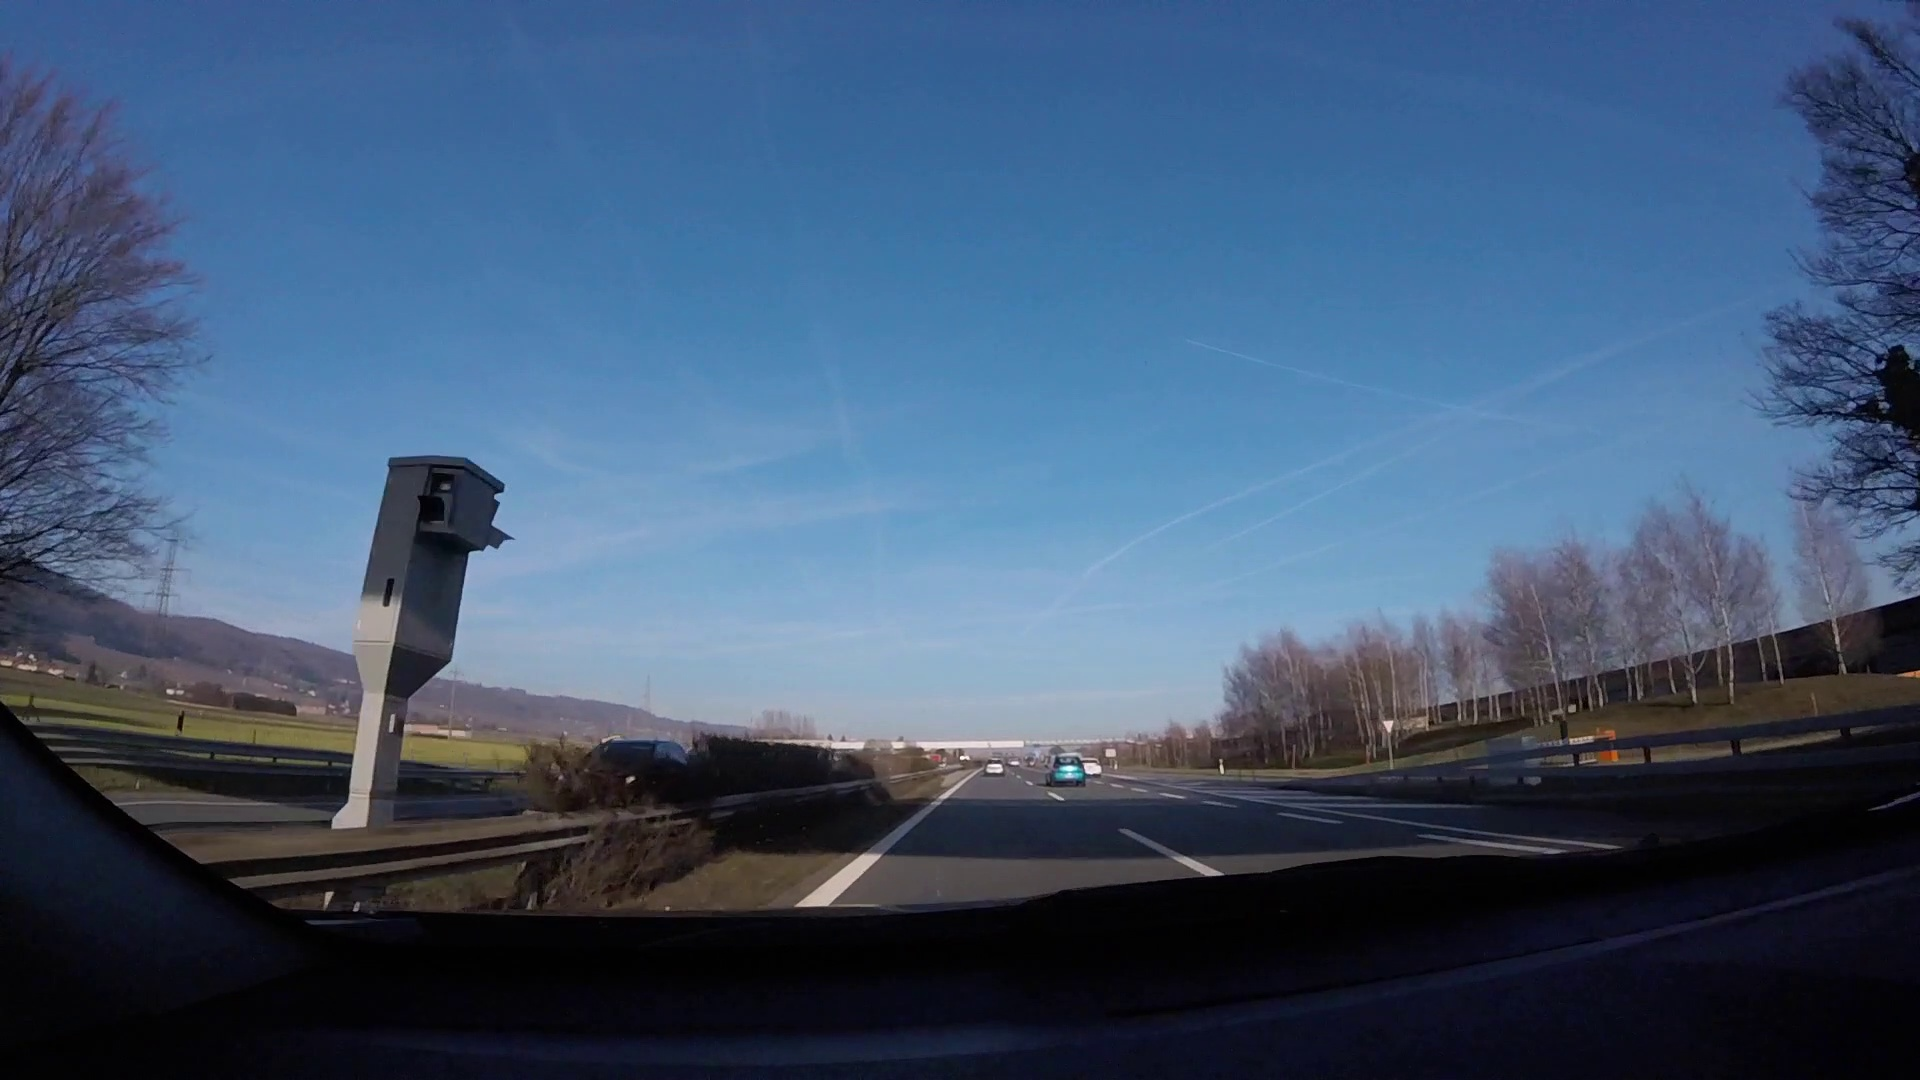radar: (348, 454, 518, 804)
